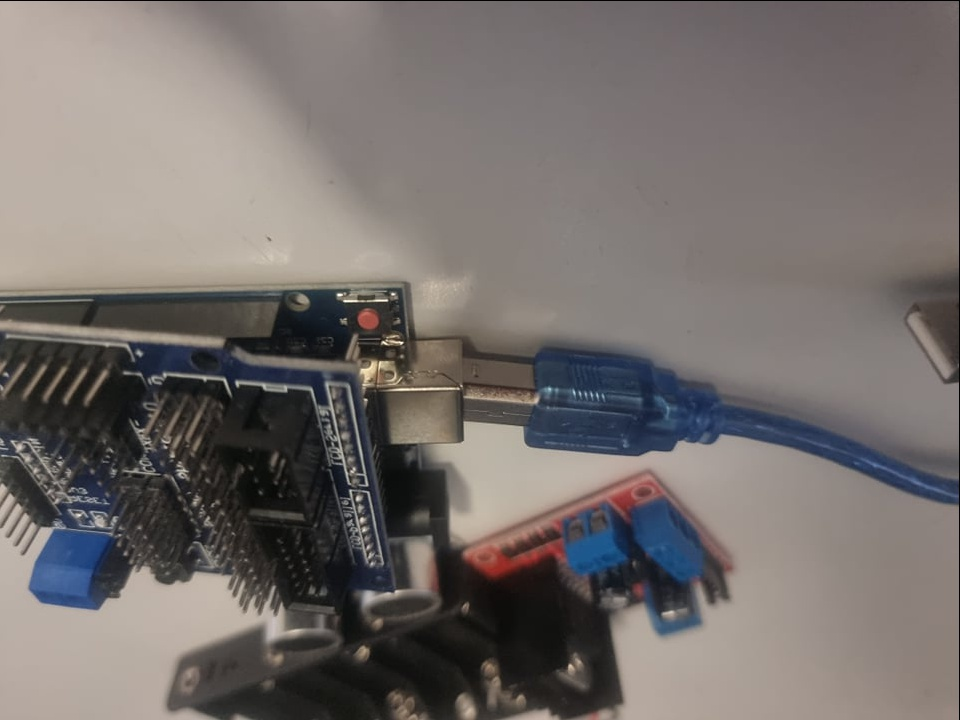5V EXPANSION: (5, 355, 370, 617)
BATTERY BOX: (166, 627, 515, 719)
MOTOR: (467, 467, 738, 717)
UNO R3: (369, 271, 466, 582)
